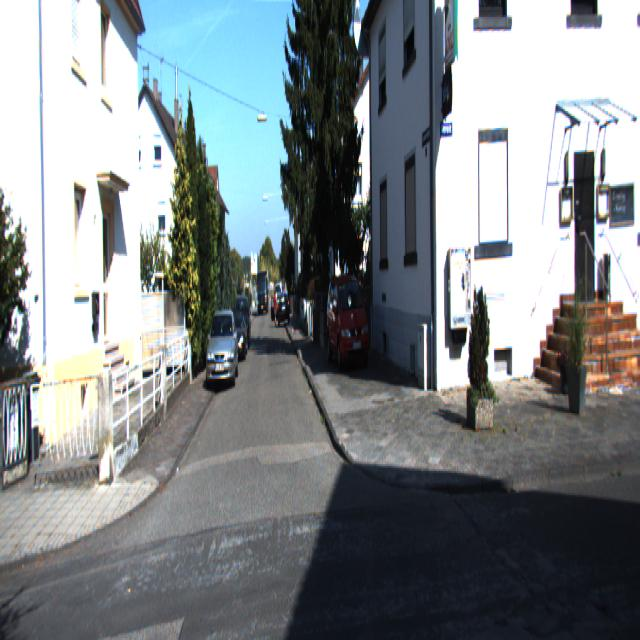Car: (325, 272, 369, 376), (206, 306, 238, 389), (226, 311, 248, 364)
